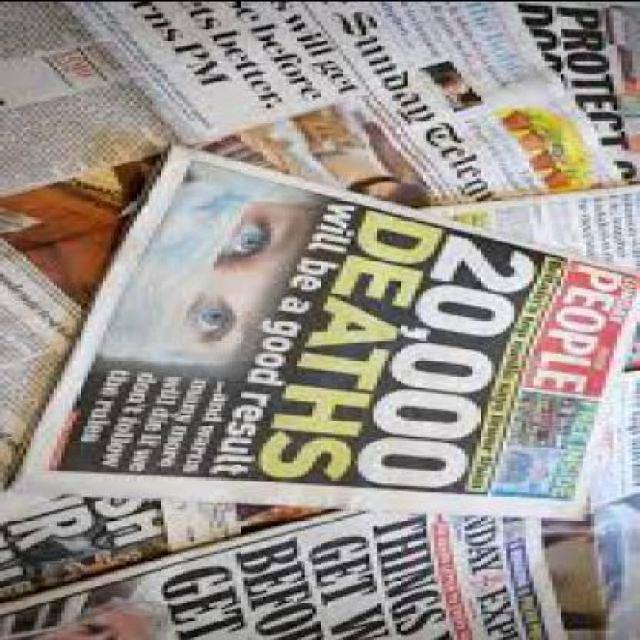PAPER: (3, 0, 638, 638), (7, 137, 638, 518), (4, 1, 507, 268), (4, 494, 567, 638), (416, 180, 638, 508), (338, 0, 624, 203), (3, 492, 351, 602), (514, 2, 638, 180)
